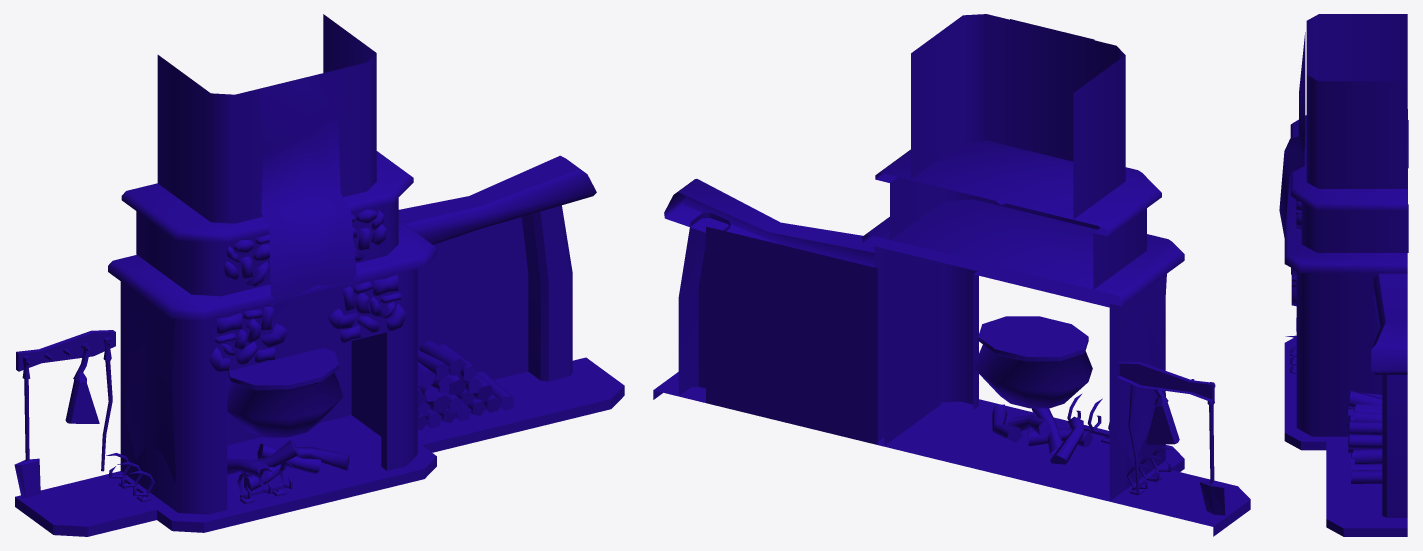
Rendered from CG_Model_TownInt_FirePlace_Mar24_ChrisMcknight.FBX.
3 renders of one model, left to right at view 1: azimuth 30°, elevation 25°; view 2: azimuth 150°, elevation 25°; view 3: azimuth 270°, elevation 25°, orthographic. The views are drawn at different scales.
Visible parts, largest first — view 1: Fire Place; view 2: Fire Place; view 3: Fire Place.
Part boxes in pixels (<box>): Fire Place: <box>14,14,624,536</box>; Fire Place: <box>653,14,1250,536</box>; Fire Place: <box>1279,14,1408,536</box>.
Bounding box in the file's own units: 106 × 73.22 × 24.59.
